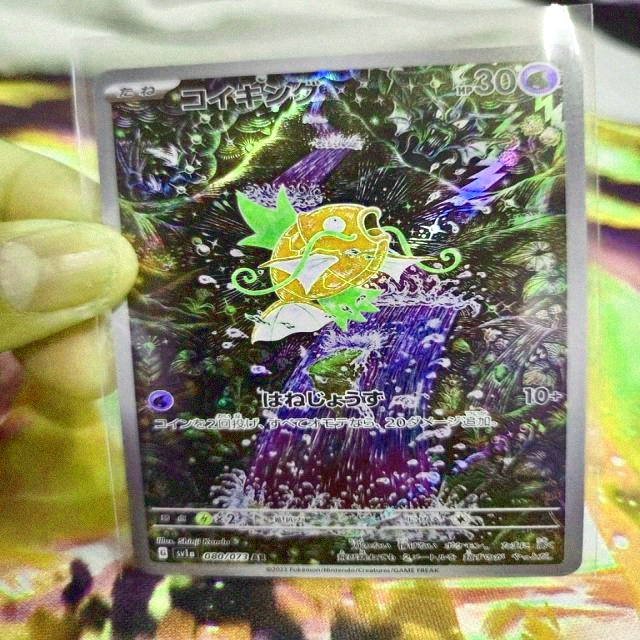card: (89, 41, 584, 578)
